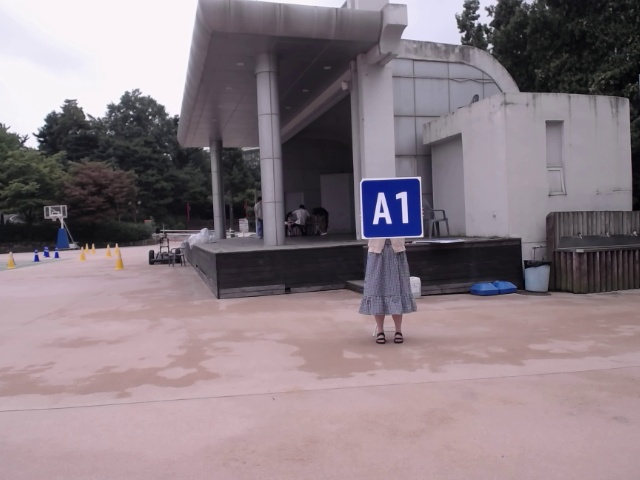delivery_a1: (360, 177, 423, 239)
